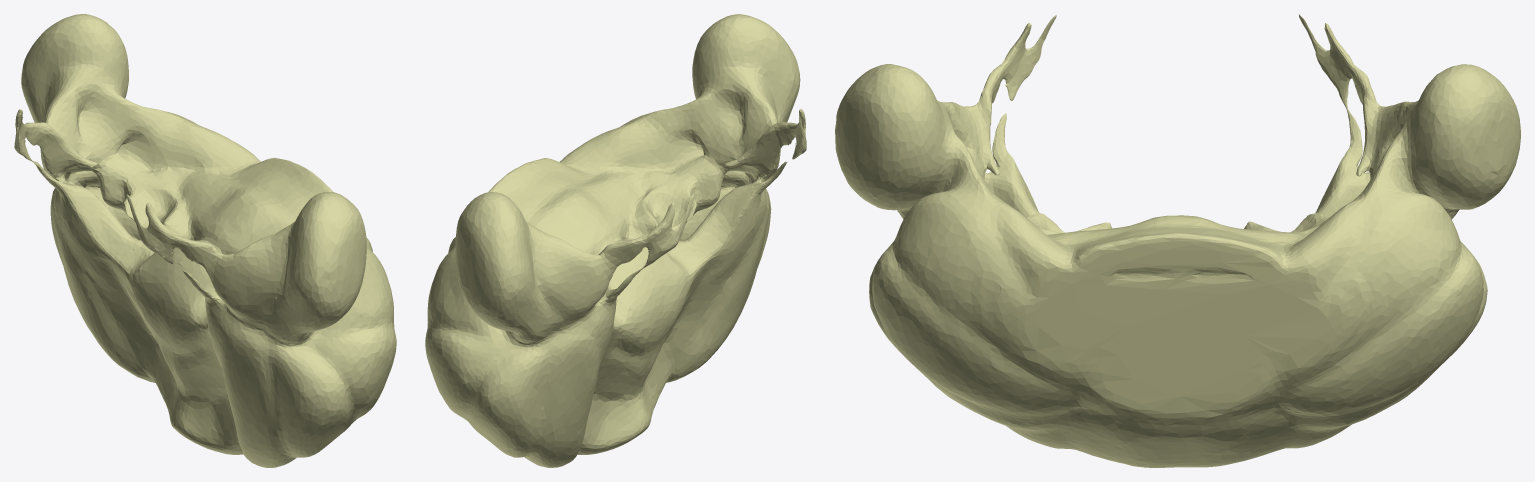
3 views of the same model, side by side, from view 1: azimuth 30°, elevation 25°; view 2: azimuth 150°, elevation 25°; view 3: azimuth 270°, elevation 25° (orthographic). The views are drawn at different scales.
Parts seen in each view (by area): view 1: 512.obj; view 2: 512.obj; view 3: 512.obj.
Boxes of the visible parts, x1,y1,x2,y2 form: 512.obj: [14, 14, 396, 467]; 512.obj: [425, 14, 806, 467]; 512.obj: [835, 14, 1520, 467].
Size of the model in its own units: 4357 by 5791 by 9278.
